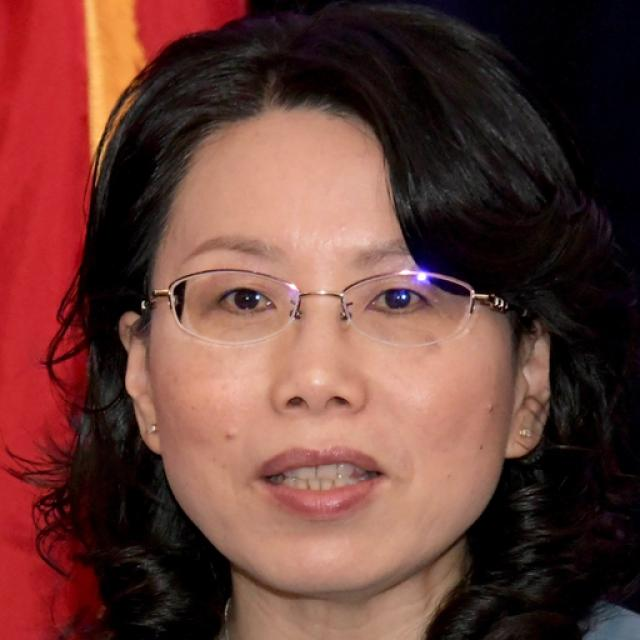Acne: (219, 417, 238, 447), (480, 393, 499, 416)
